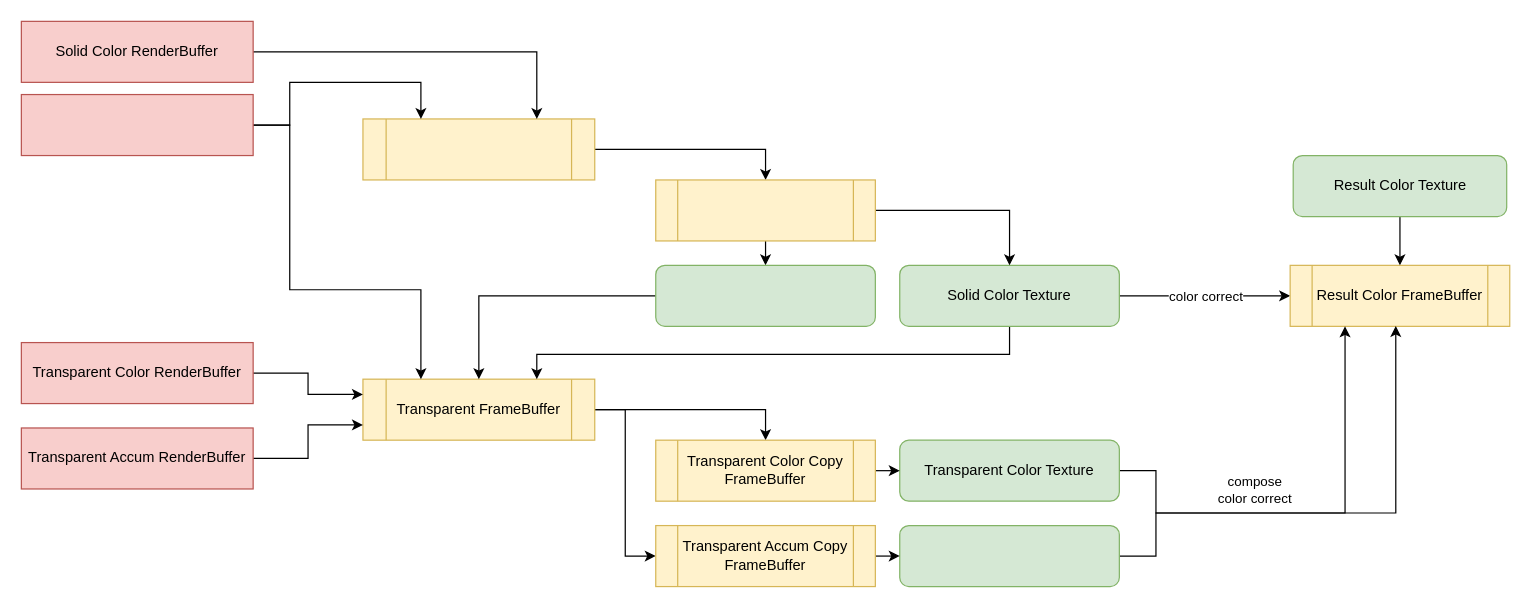
This 1531x609 diagram has some shape labels left out. The shapes that lost their labels are listed below. From the top down, each one's box as (x1, y1, x2, y2) in pixels, then its label:
(20, 93, 253, 156): Solid Depth RenderBuffer
(362, 118, 595, 180): Solid FrameBuffer
(655, 179, 875, 241): Solid Color Depth Copy FrameBuffer
(655, 264, 875, 326): Solid Depth Texture
(899, 524, 1119, 587): Transparent Accum Texture
